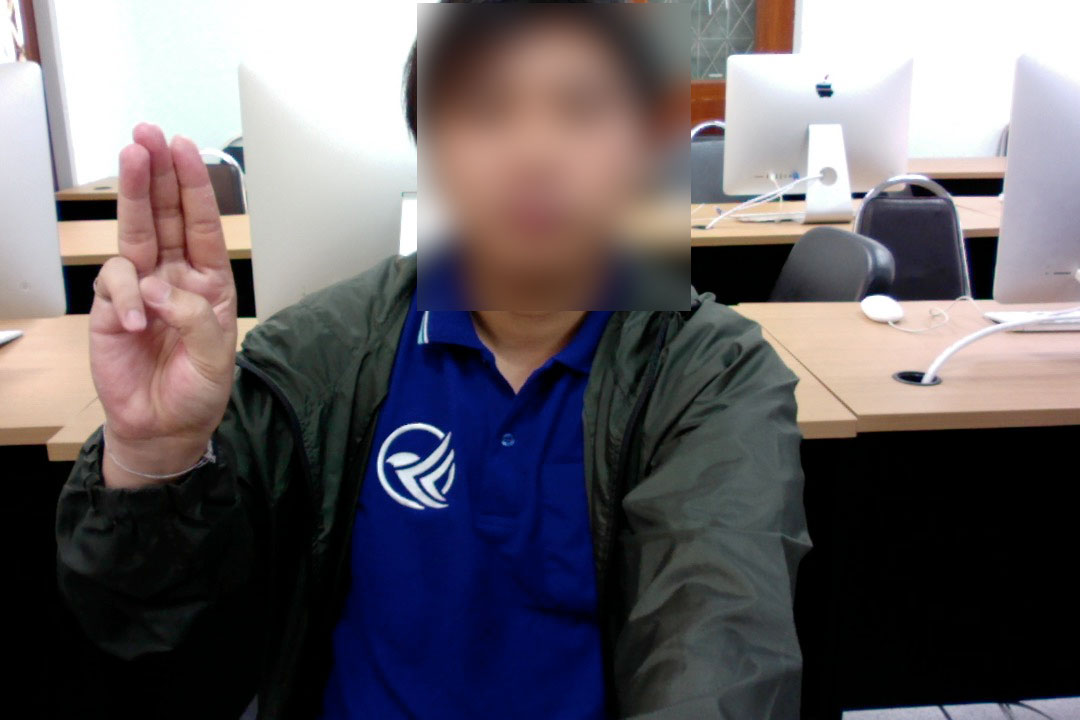wor: (75, 120, 262, 457)
